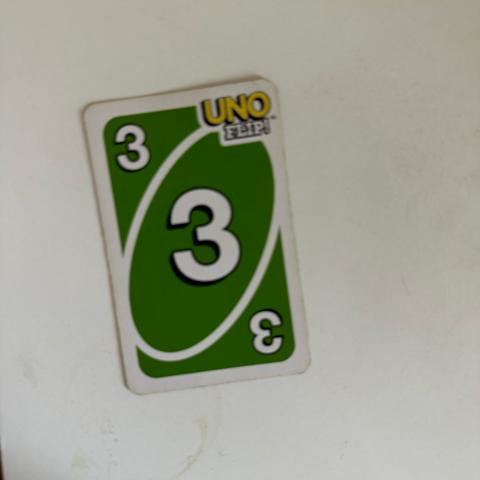6_green: (157, 185, 242, 294), (110, 123, 159, 172), (242, 308, 289, 358)
